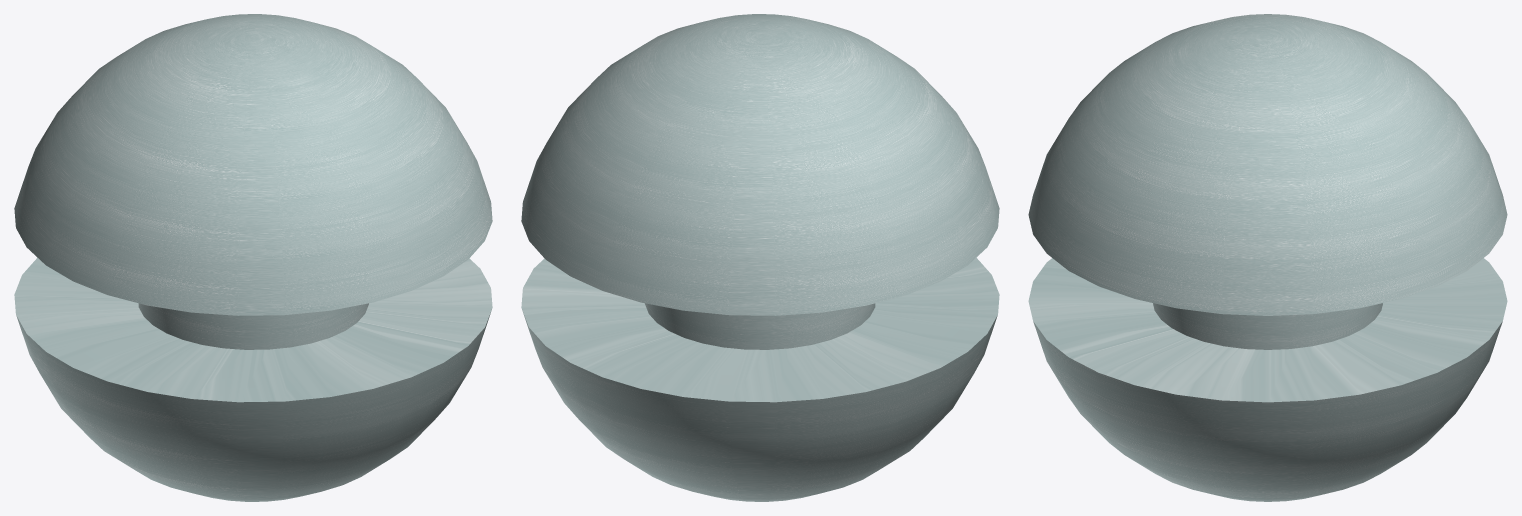
File: ball.FBX
3 renders of one model, left to right at view 1: azimuth 30°, elevation 25°; view 2: azimuth 150°, elevation 25°; view 3: azimuth 270°, elevation 25°, orthographic.
Parts seen in each view (by area): view 1: Orb; view 2: Orb; view 3: Orb.
Boxes of the visible parts, box(x1,y1,x2,y2) form: Orb: box(14, 14, 492, 501); Orb: box(521, 14, 999, 501); Orb: box(1028, 14, 1507, 501).
Bounding box in the file's own units: 93.74 × 95.58 × 93.74.
1 material, 1 textured.
